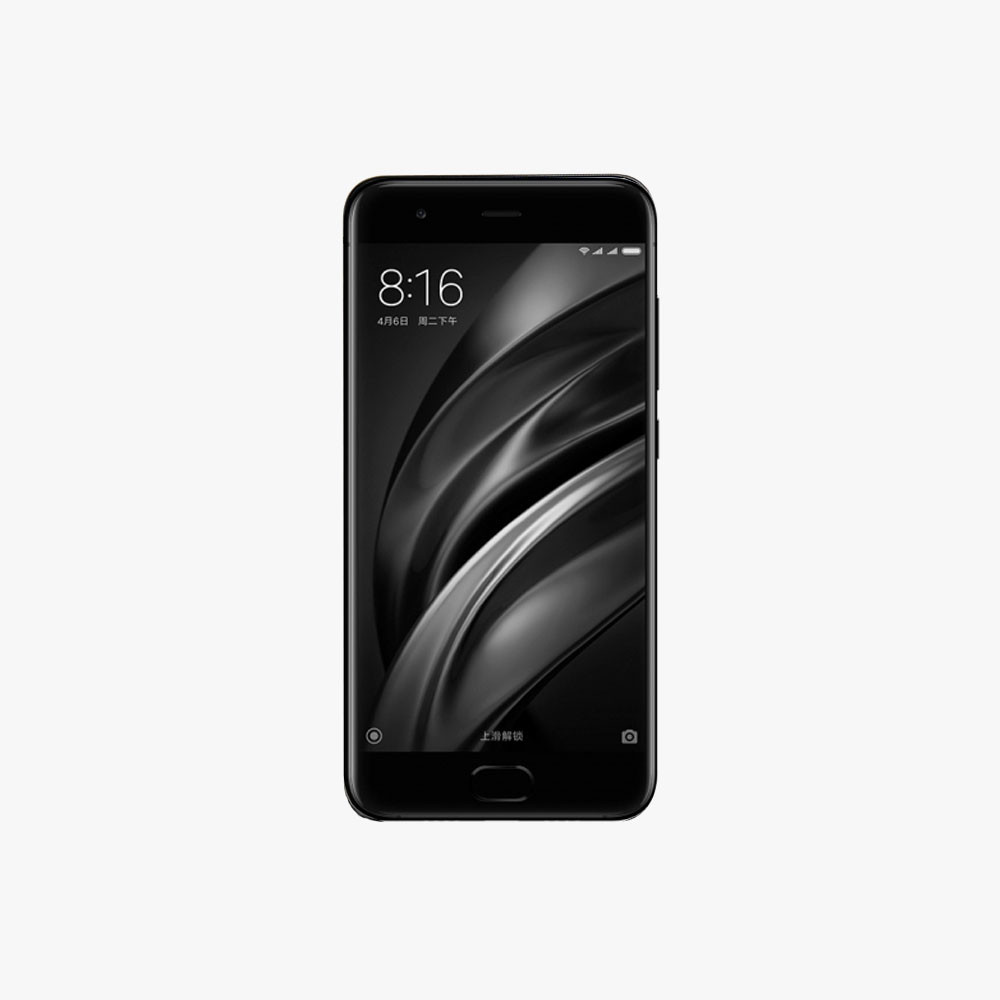smartphone: (342, 173, 660, 821)
